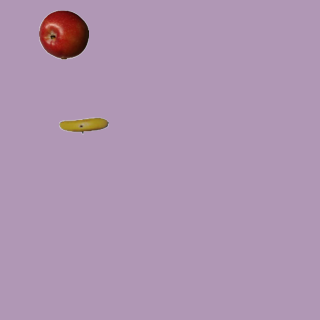Apple Braeburn: (38, 9, 88, 59)
Banana: (58, 100, 108, 150)
